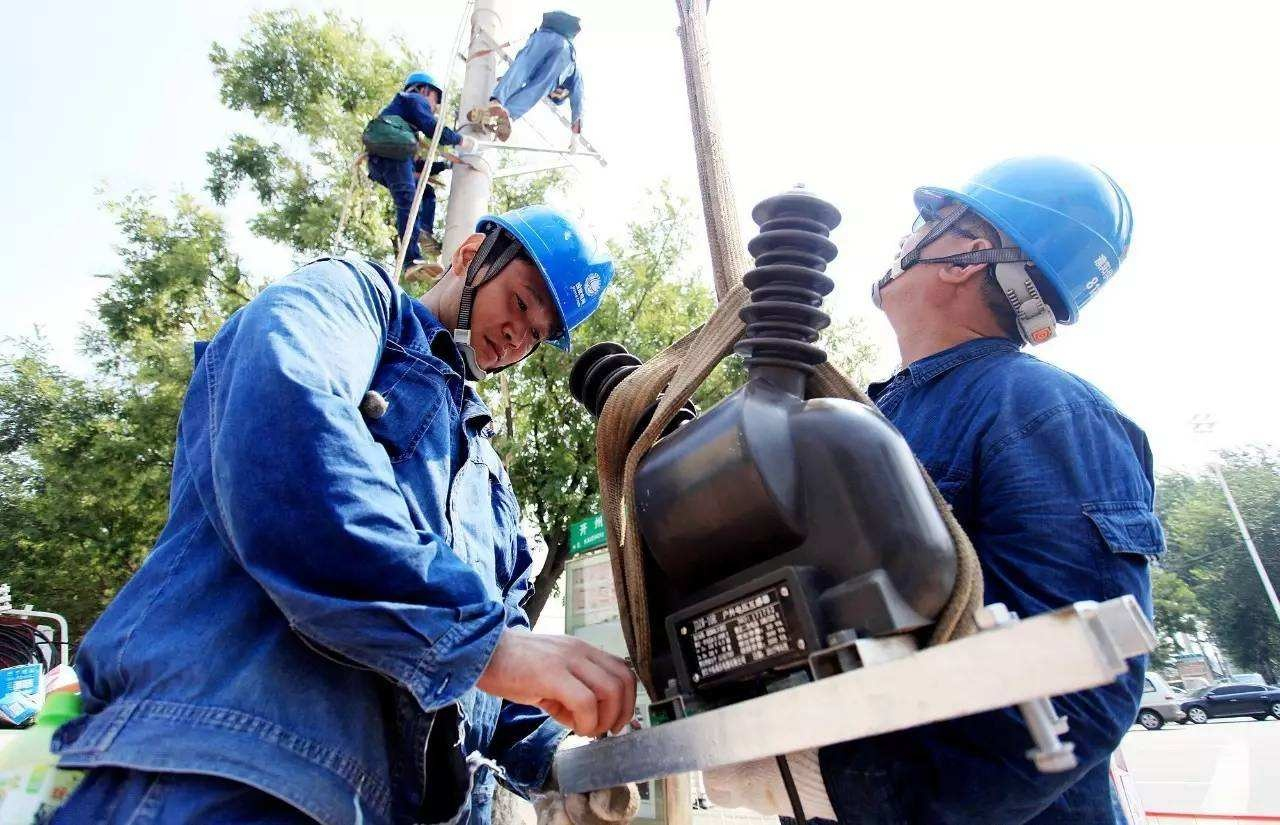blue: (870, 152, 1141, 376), (440, 202, 616, 379), (400, 66, 440, 114)
